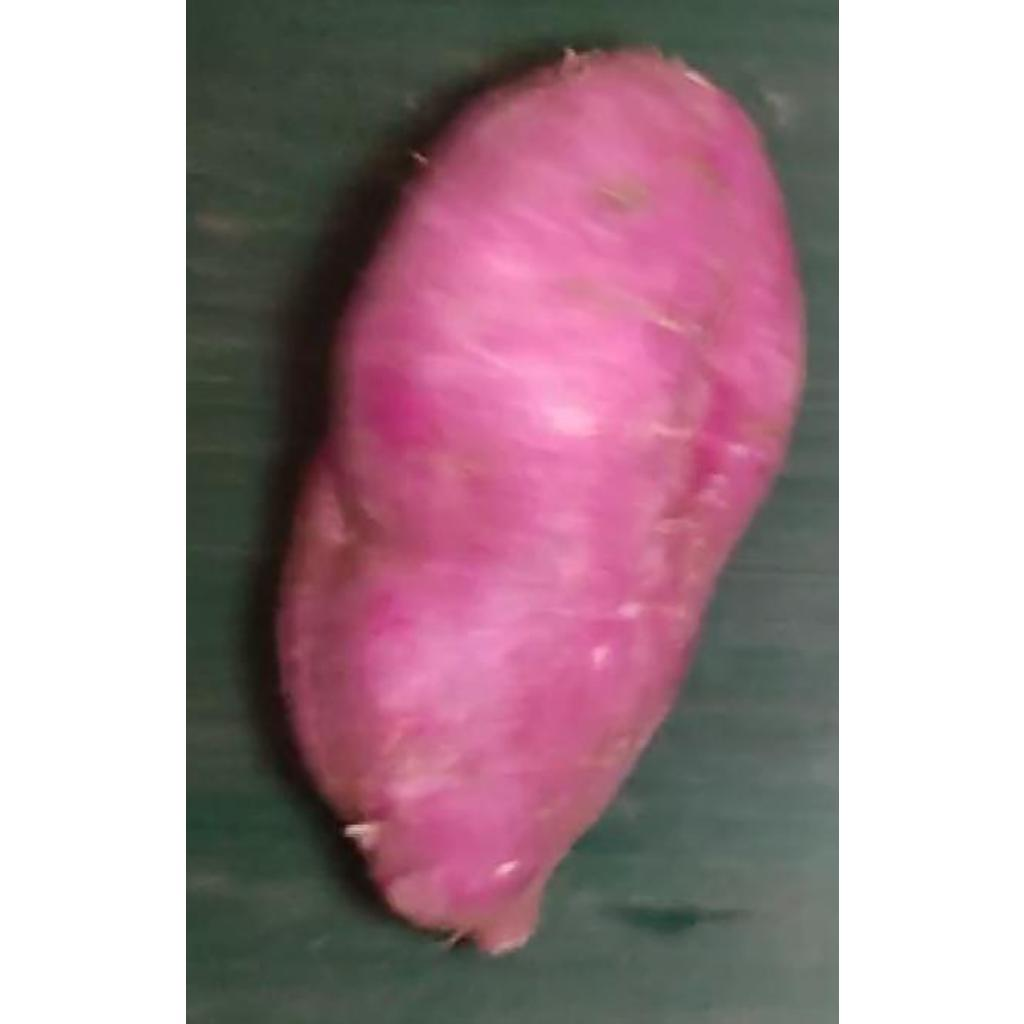Sweet Potato: (273, 46, 807, 960)
